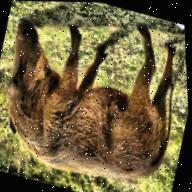boar: (0, 5, 189, 192)
